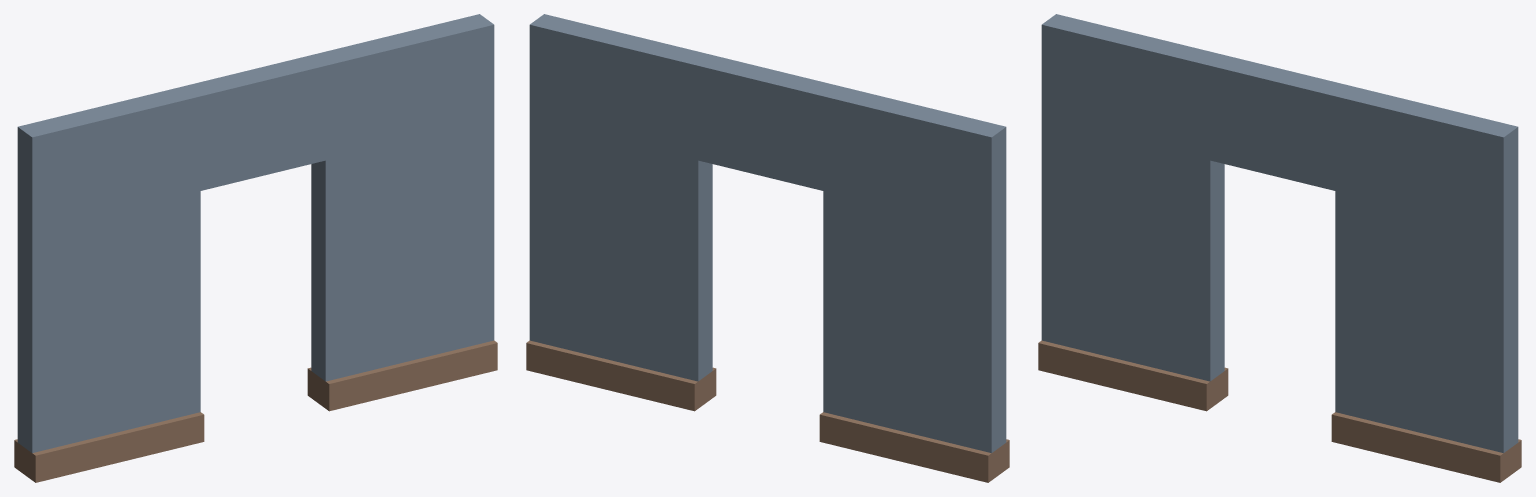
Rendered from WallDoorWay.fbx.
3 views of the same model, side by side, from view 1: azimuth 30°, elevation 25°; view 2: azimuth 150°, elevation 25°; view 3: azimuth 330°, elevation 25° (orthographic).
Parts seen in each view (by area): view 1: WallDoorWay; view 2: WallDoorWay; view 3: WallDoorWay.
Boxes of the visible parts, x1,y1,x2,y2 form: WallDoorWay: [14, 14, 497, 482]; WallDoorWay: [526, 14, 1009, 482]; WallDoorWay: [1038, 14, 1521, 482].
Bounding box in the file's own units: 1194 × 847 × 96.21.
